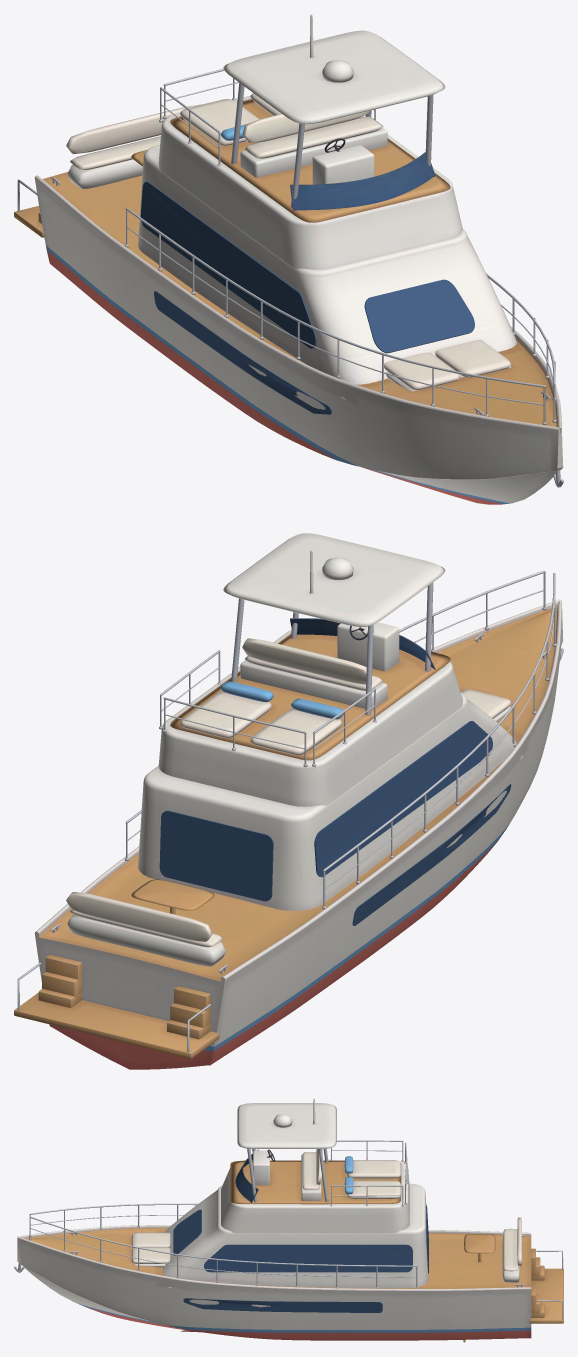
The model's file is yacht.glb.
The picture shows the model from 3 angles, top to bottom: view 1: azimuth 30°, elevation 25°; view 2: azimuth 150°, elevation 25°; view 3: azimuth 270°, elevation 25°; orthographic projection. The views are drawn at different scales.
Visible parts, largest first — view 1: yacht_body, yacht_salon_windows, yacht_hull_windows; view 2: yacht_body, yacht_salon_windows, yacht_hull_windows; view 3: yacht_body, yacht_salon_windows, yacht_hull_windows.
Boxes of the visible parts, <box> form: yacht_body: <box>14,14,563,504</box>; yacht_salon_windows: <box>140,181,474,353</box>; yacht_hull_windows: <box>154,291,331,414</box>; yacht_body: <box>14,533,563,1069</box>; yacht_salon_windows: <box>159,721,492,901</box>; yacht_hull_windows: <box>352,784,511,925</box>; yacht_body: <box>14,1098,563,1340</box>; yacht_salon_windows: <box>173,1205,428,1273</box>; yacht_hull_windows: <box>183,1298,382,1312</box>.
Size of the model in its own units: 5.04 by 9.04 by 19.27.
7 materials, 1 textured.
